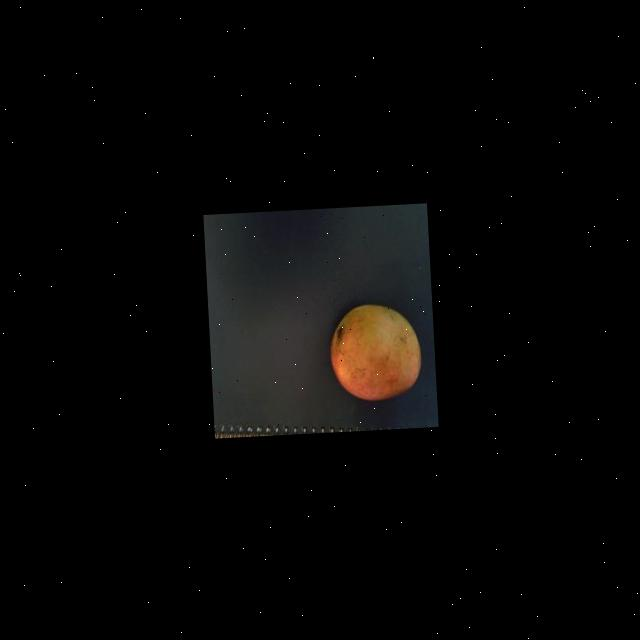Mango: (328, 301, 423, 404)
